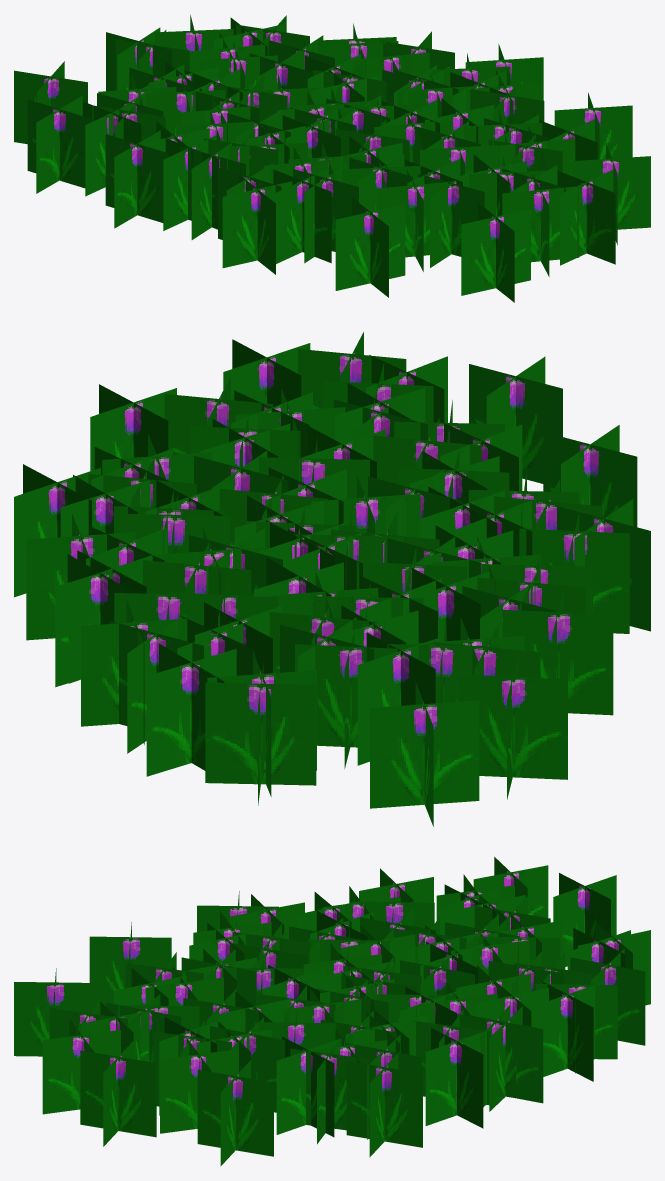
The model's file is HTOWN01_TULIPPURP01.fbx.
3 views of the same model, one above another, from view 1: azimuth 30°, elevation 25°; view 2: azimuth 150°, elevation 25°; view 3: azimuth 270°, elevation 25° (orthographic). The views are drawn at different scales.
Visible parts, largest first — view 1: HTOWN01_TULIPPURP01; view 2: HTOWN01_TULIPPURP01; view 3: HTOWN01_TULIPPURP01.
Boxes of the visible parts, <box> form: HTOWN01_TULIPPURP01: <box>14,14,650,302</box>; HTOWN01_TULIPPURP01: <box>14,332,650,826</box>; HTOWN01_TULIPPURP01: <box>14,857,650,1166</box>.
Bounding box in the file's own units: 34018 × 5000 × 38849.
1 material, 1 textured.
